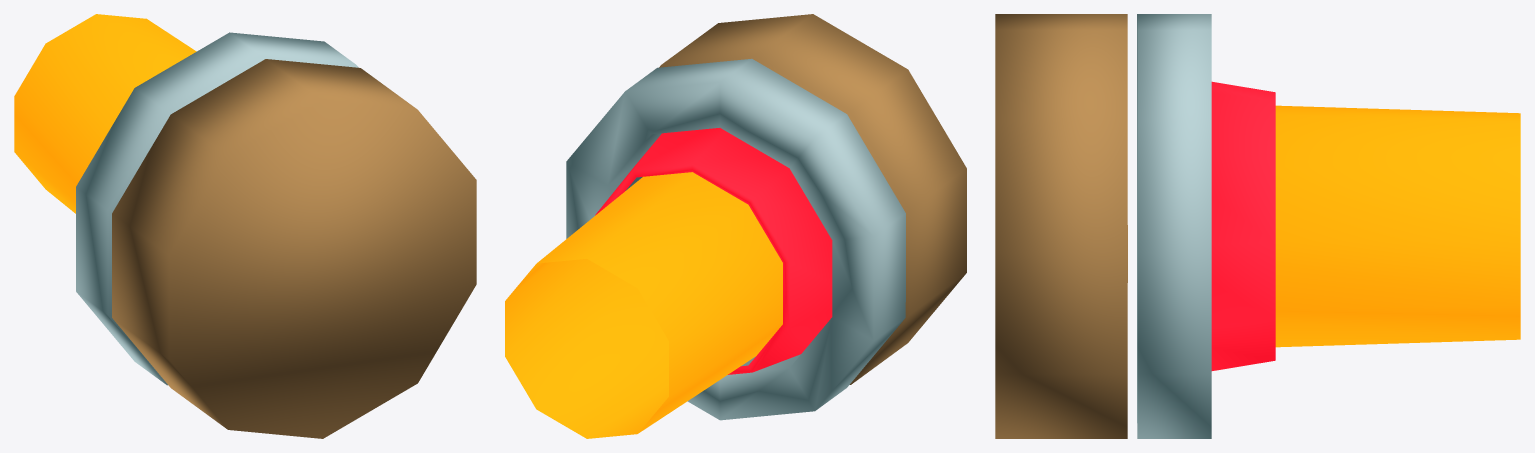
Rendered from boost.glb.
3 renders of one model, left to right at view 1: azimuth 30°, elevation 25°; view 2: azimuth 150°, elevation 25°; view 3: azimuth 270°, elevation 25°, orthographic. The views are drawn at different scales.
Visible parts, largest first — view 1: boost, boost-part.001; view 2: boost, boost-part.001; view 3: boost, boost-part.001.
Boxes of the visible parts, x1,y1,x2,y2 form: boost: [76, 32, 476, 438]; boost-part.001: [14, 14, 196, 213]; boost: [566, 14, 966, 420]; boost-part.001: [505, 172, 782, 438]; boost: [995, 14, 1275, 438]; boost-part.001: [1275, 105, 1520, 347].
Size of the model in its own units: 0.1451 by 0.1525 by 0.185.
